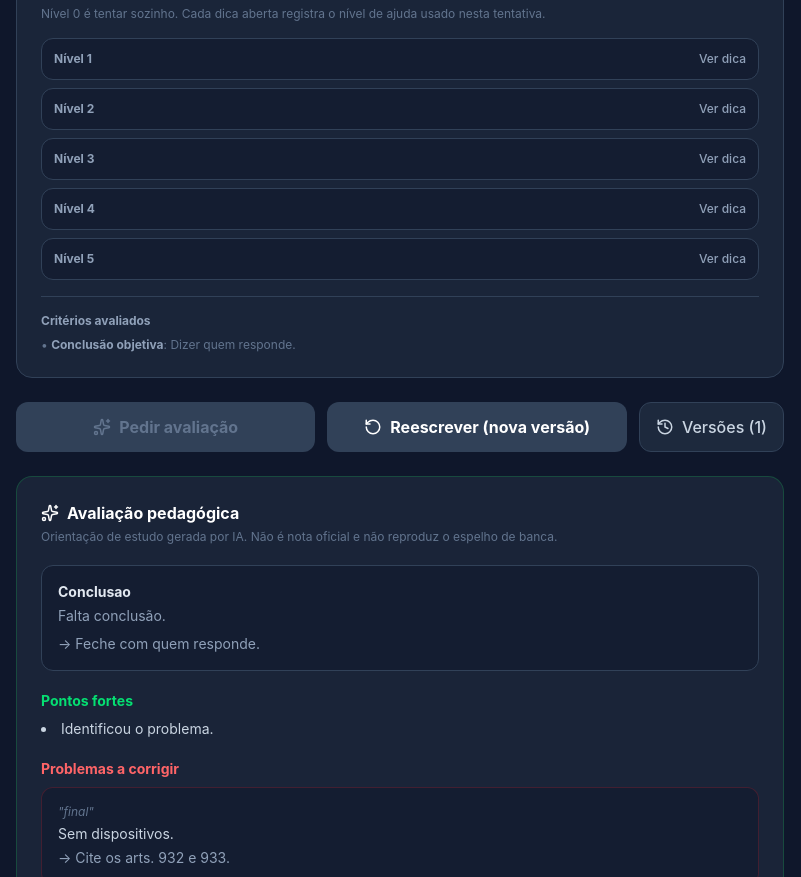
Test case: ExercicioView › oferece reescrita após avaliação concluída e cria nova versão
(page scrolled)
Expected: the heading "Avaliação pedagógica" is shown, [41,503,239,523]
Expected: the text "Não é nota oficial" is shown, [41,529,558,544]
Click the button "Reescrever (nova versão)": (477, 427) [328,402,627,452]
(page scrolled)
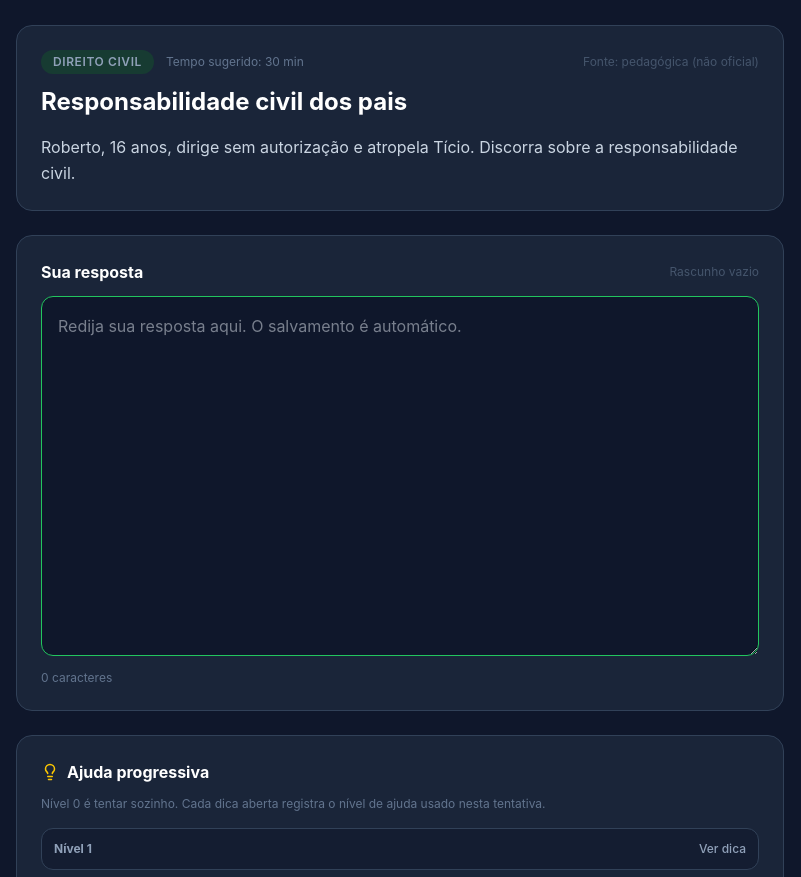
Expected: the text box with placeholder "Redija sua resposta aqui. O salvamento é automático." is empty, [41,296,759,656]
Now the heading "Avaliação pedagógica" is gone
